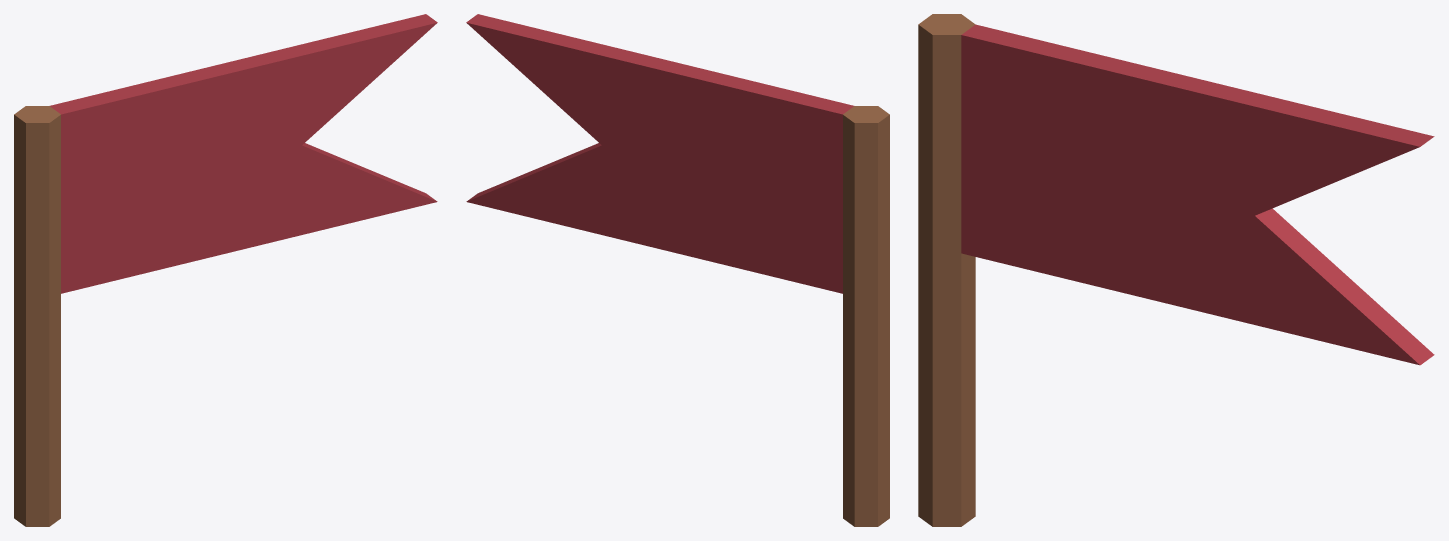
Rendered from quaternius-modular-medieval-buildings-banner.glb.
The picture shows the model from 3 angles, left to right: view 1: azimuth 30°, elevation 25°; view 2: azimuth 150°, elevation 25°; view 3: azimuth 330°, elevation 25°; orthographic projection. The views are drawn at different scales.
Visible parts, largest first — view 1: Banner; view 2: Banner; view 3: Banner.
Boxes of the visible parts, box(x1,y1,x2,y2) form: Banner: box(14, 14, 437, 526); Banner: box(466, 14, 889, 526); Banner: box(918, 14, 1434, 526).
Size of the model in its own units: 0.7035 by 0.6589 by 0.0696.
